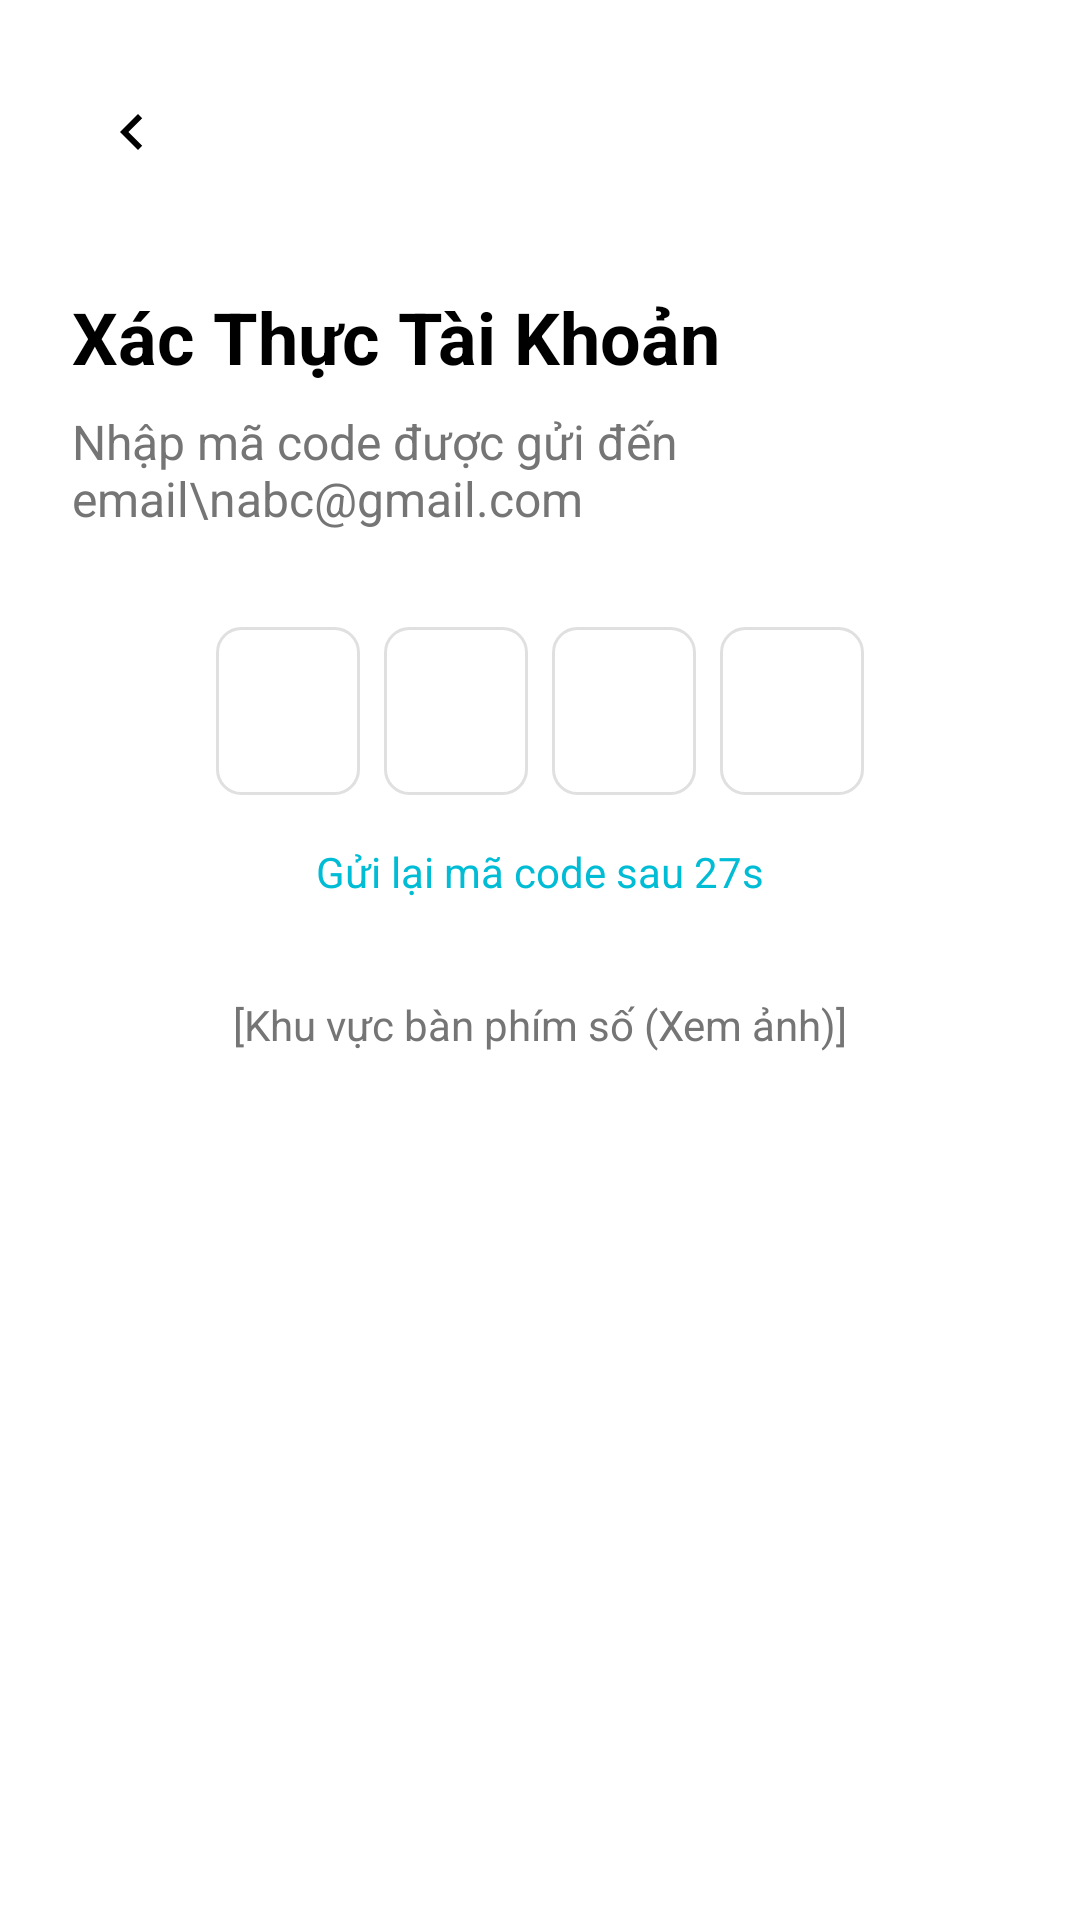

Icons on this 1080w x 1920h Android screen, each with its box as rect(x1, y1, x2, y2):
arrow left: rect(120, 114, 142, 150)
